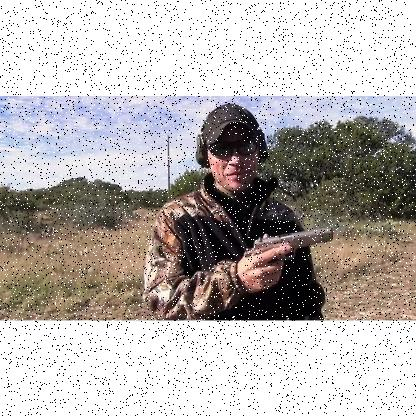gun: (244, 227, 332, 287)
